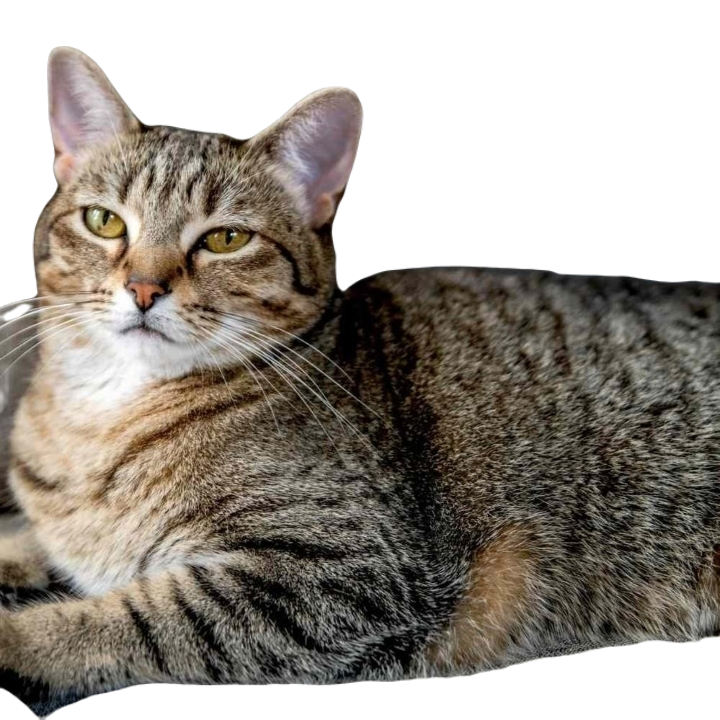Cat: (0, 43, 719, 719)
